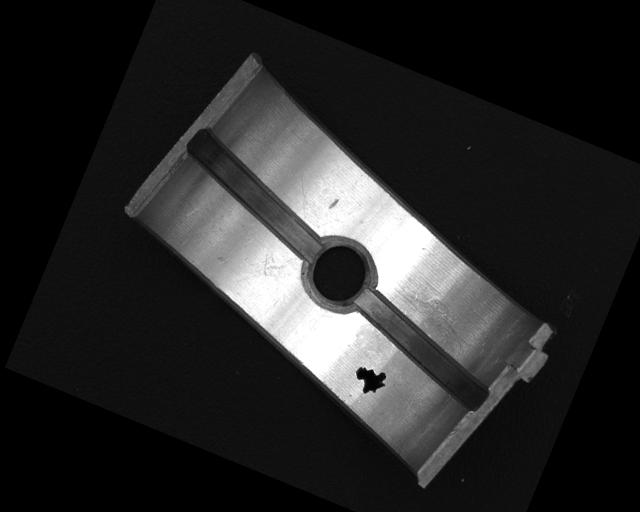blot: (348, 361, 391, 401)
bruise: (328, 196, 340, 213)
gap: (166, 127, 345, 263), (333, 287, 507, 414)
hole: (295, 232, 381, 321)
scratch: (378, 278, 487, 360)
